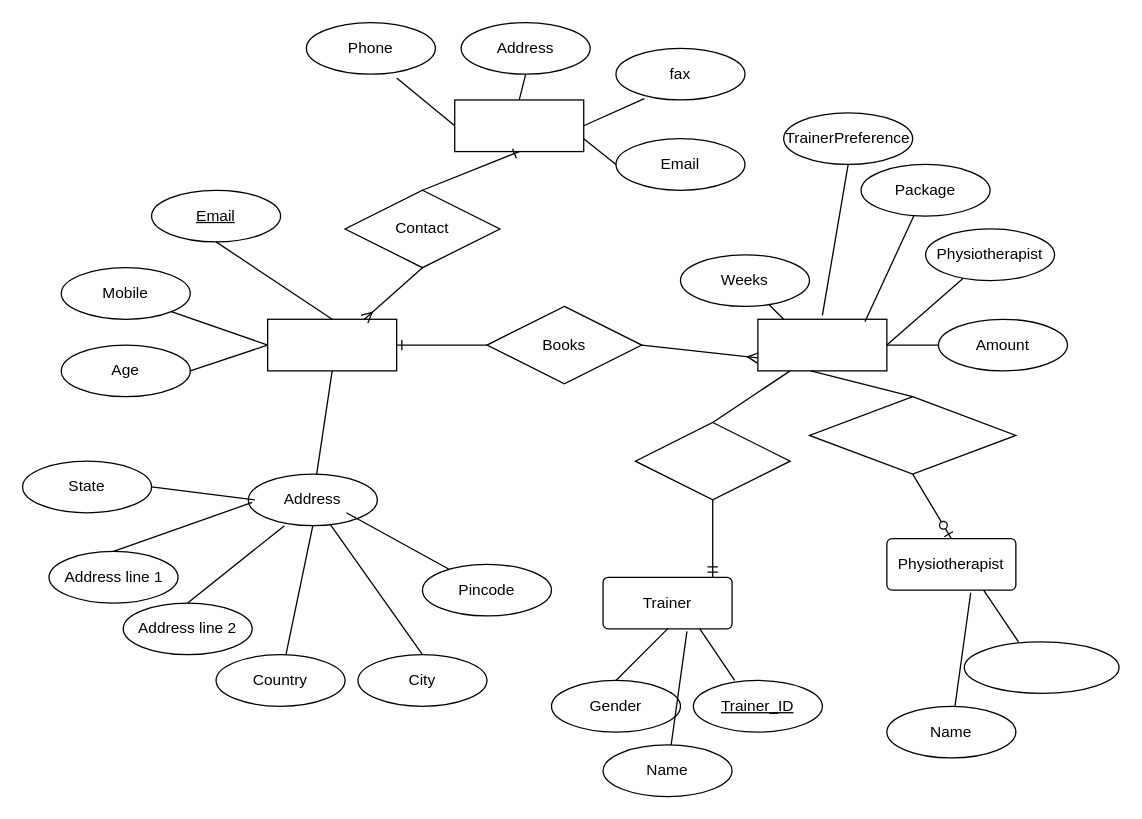
Some shapes in this 1142 by 819 pixel diagram are drawn without their labels. The shapes that lost their labels are listed below. From the top down, each one's box as (x1, y1, x2, y2) in pixels, then its label:
(453, 99, 584, 152): Company
(266, 318, 397, 371): User
(757, 318, 887, 371): Appointment
(808, 395, 1016, 474): Appoint_Physiotherapist
(634, 421, 790, 500): Appoint_Trainer
(963, 640, 1119, 693): Physiotherapist_ID
